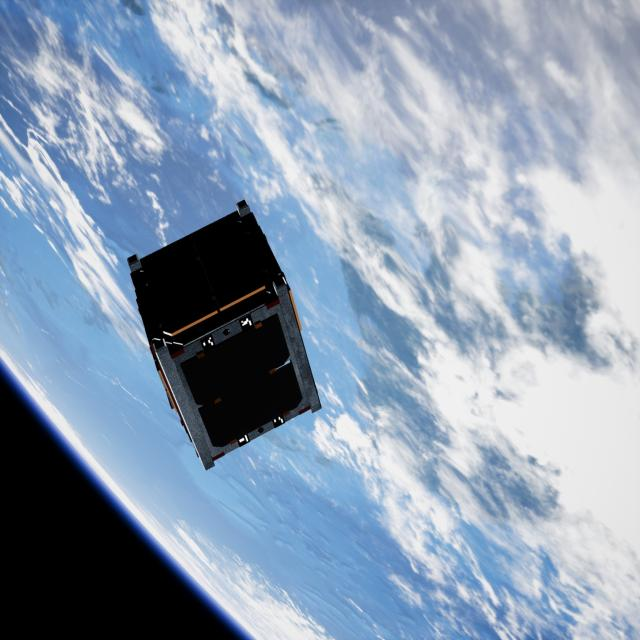medium_debris: (124, 195, 331, 478)
